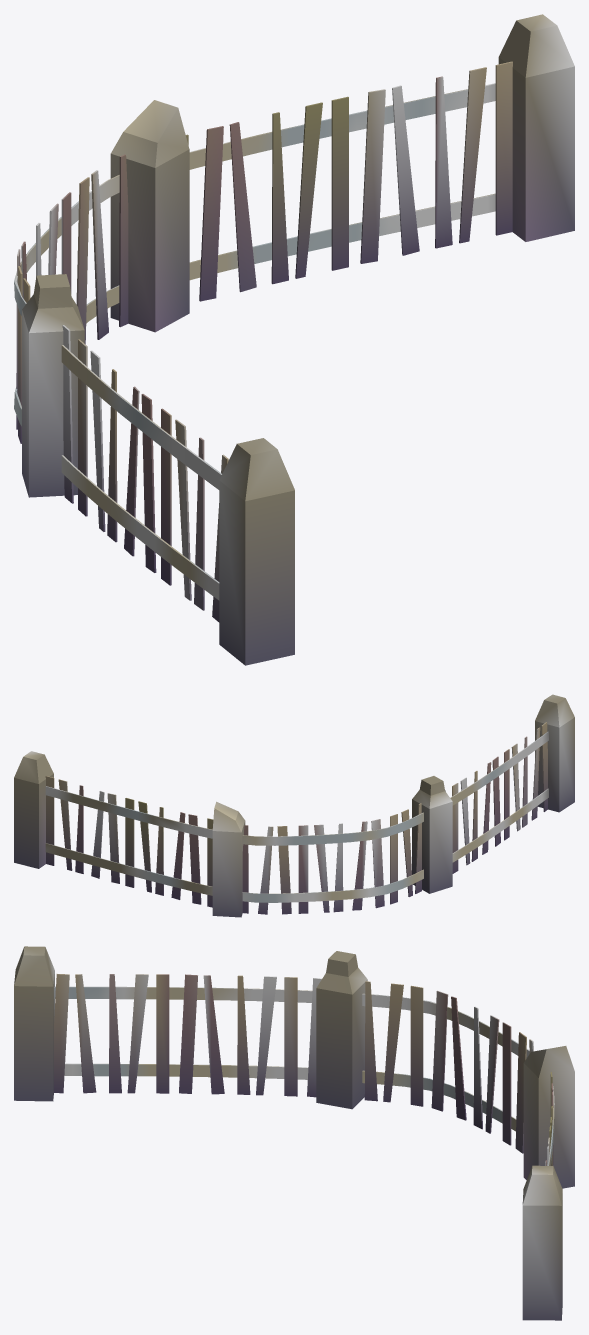
The model's file is French_3.fbx.
3 views of the same model, one above another, from view 1: azimuth 30°, elevation 25°; view 2: azimuth 150°, elevation 25°; view 3: azimuth 270°, elevation 25° (orthographic). The views are drawn at different scales.
Visible parts, largest first — view 1: Fence3; view 2: Fence3; view 3: Fence3.
Boxes of the visible parts, x1=… form: Fence3: x1=14, y1=14, x2=574, y2=665; Fence3: x1=14, y1=694, x2=574, y2=917; Fence3: x1=14, y1=946, x2=574, y2=1320.
Bounding box in the file's own units: 428 × 120 × 429.
